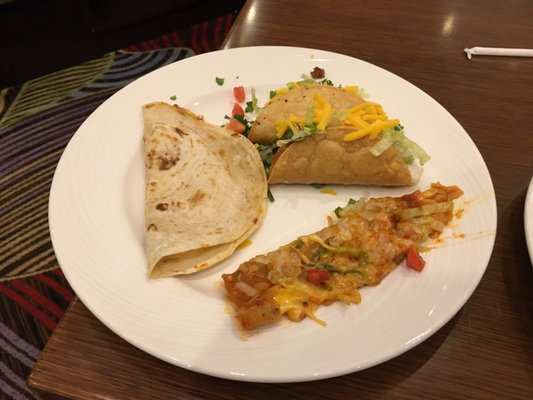burger: (0, 46, 194, 132)
soup: (140, 100, 270, 279)
